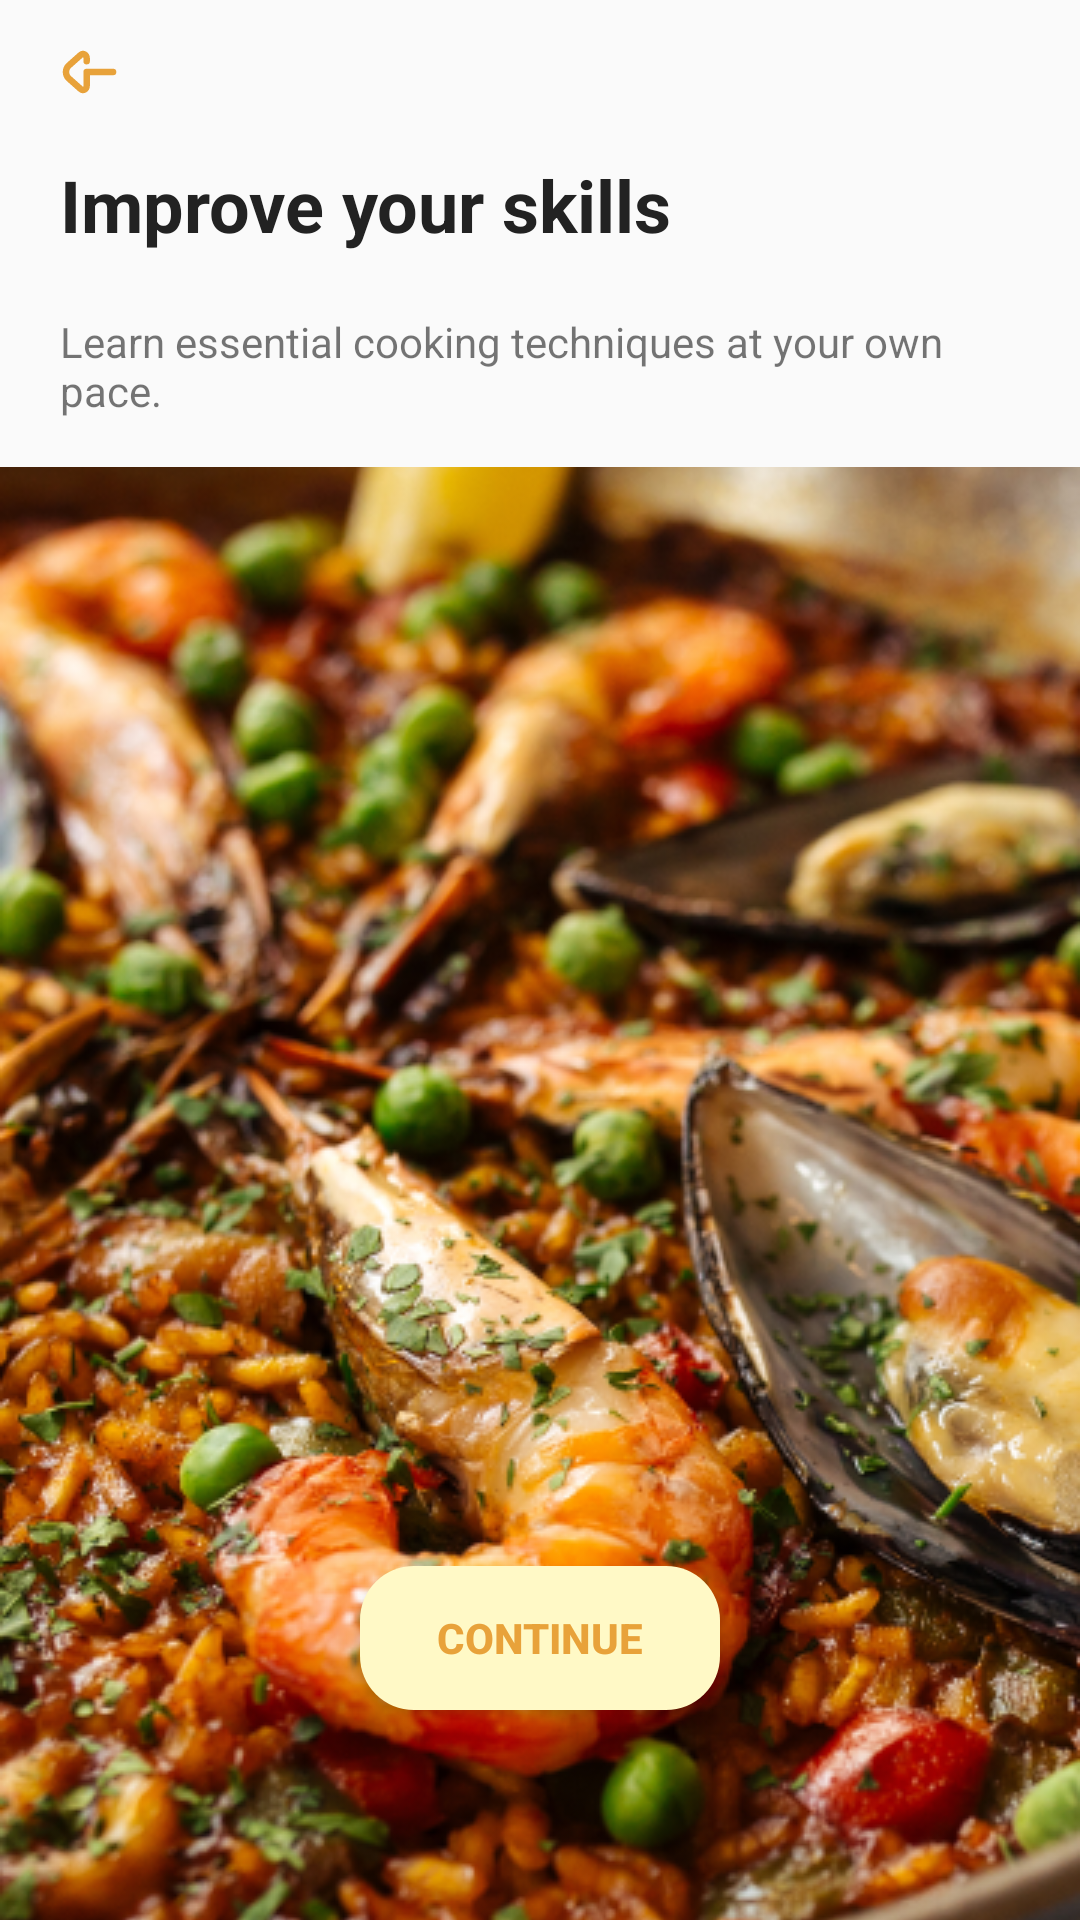

Point at icon controls on the screen. Image size 1080 x 1920, points as point (x, y).
arrow: point (89, 72)
